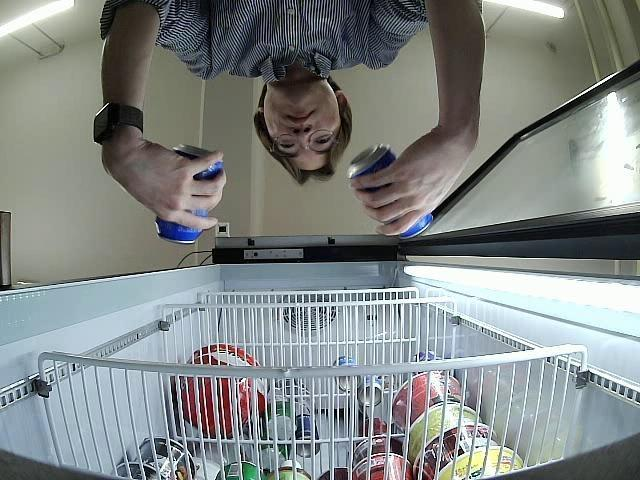13_pocariSweat: (349, 146, 432, 237), (154, 144, 224, 245)
